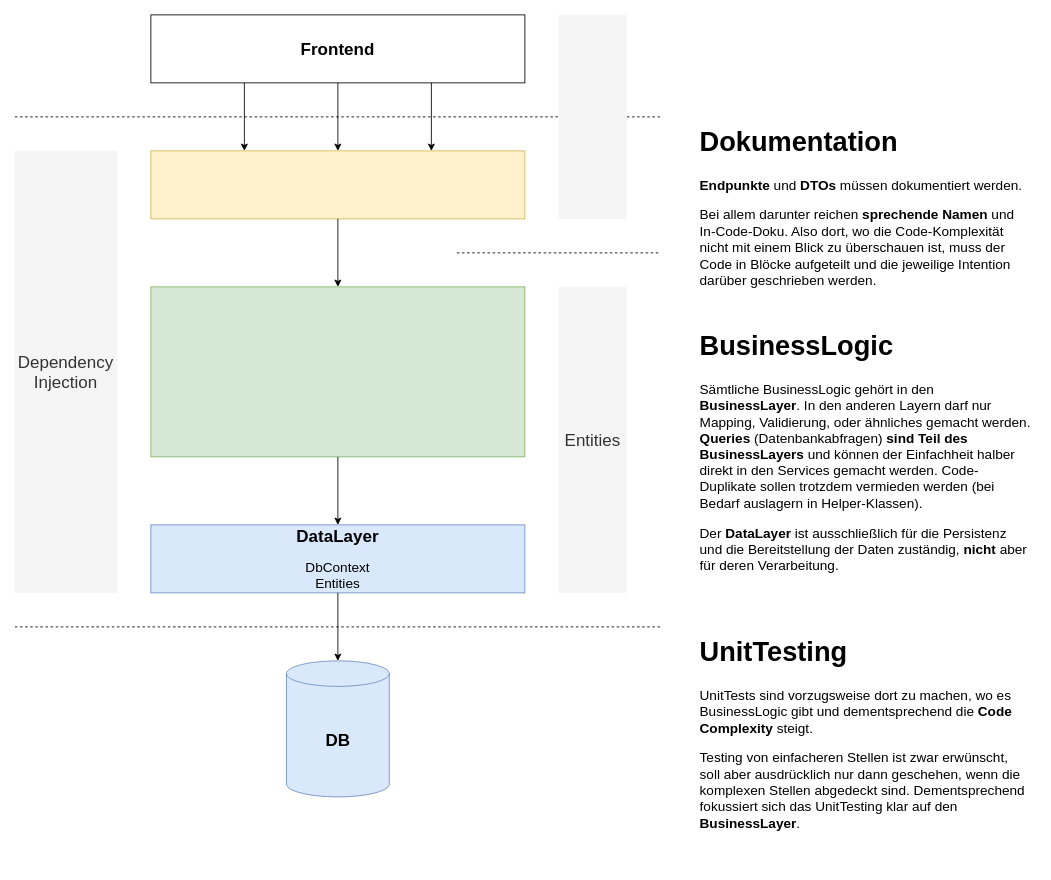
Some shapes in this 1051 by 880 pixel diagram are drawn without their labels. The shapes that lost their labels are listed below. From the top down, each one's box as (x1, y1, x2, y2) in pixels, then its label:
(558, 14, 626, 218): DTOs
(150, 150, 525, 219): API Controllers/Endpoints DTOs, Mappings, Validation
(150, 286, 525, 457): BusinessLayer BusinessLogic/Services
